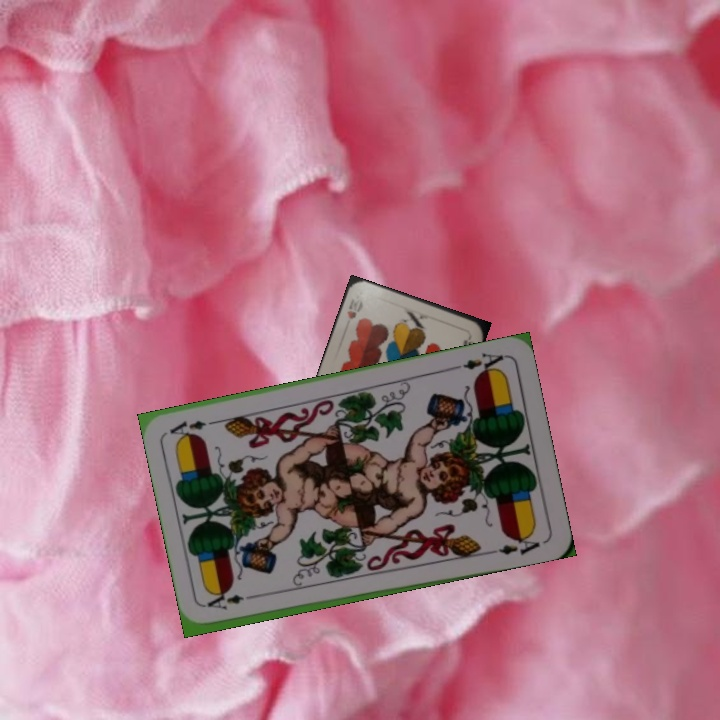EA: (449, 348, 506, 377), (203, 589, 262, 613)
H10: (342, 294, 365, 322)
